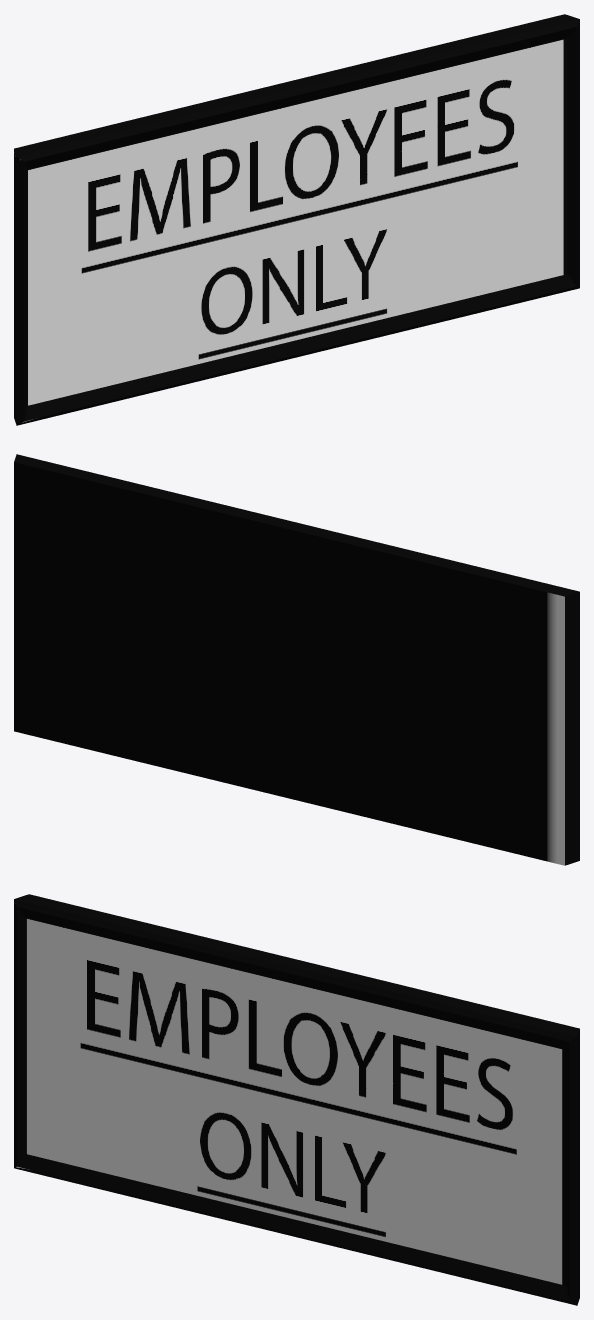
Rendered from EmployeeSign.fbx.
The picture shows the model from 3 angles, top to bottom: view 1: azimuth 30°, elevation 25°; view 2: azimuth 150°, elevation 25°; view 3: azimuth 330°, elevation 25°; orthographic projection.
Parts seen in each view (by area): view 1: pCube1; view 2: pCube1; view 3: pCube1.
Boxes of the visible parts, bbox=[...] form: pCube1: bbox=[14, 14, 579, 425]; pCube1: bbox=[14, 454, 579, 865]; pCube1: bbox=[14, 894, 579, 1305].
Size of the model in its own units: 18.54 by 8.46 by 0.6411.
1 material, 1 textured.
